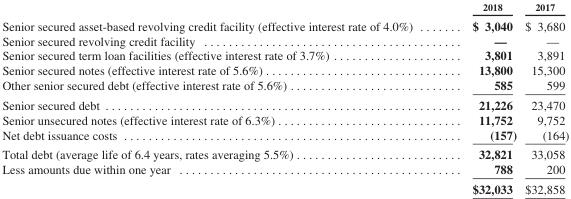table: (1, 0, 568, 195)
table column: (1, 0, 441, 195), (441, 0, 520, 195), (520, 0, 568, 195)
table column header: (1, 0, 568, 15)
table row: (1, 143, 568, 161), (1, 15, 568, 32), (1, 77, 568, 94), (1, 94, 568, 111), (1, 126, 568, 143), (1, 161, 568, 178), (1, 178, 568, 195), (1, 0, 568, 15), (1, 32, 568, 47), (1, 47, 568, 62), (1, 62, 568, 77), (1, 111, 568, 126)
